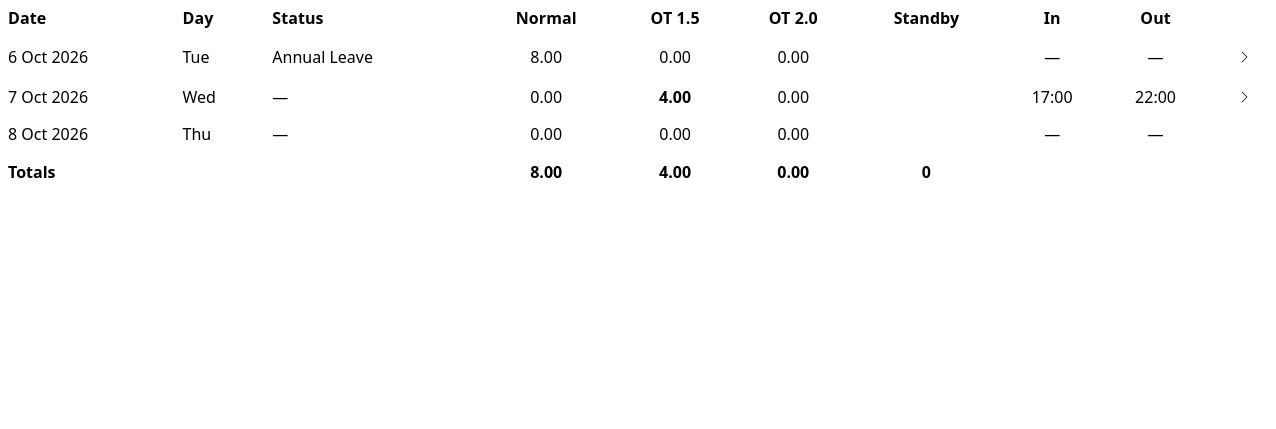
Test: QuickView › expands a day to every overtime record behind it, plus leave and holiday lines
Click the button named "breakdown for": (1244,97) [1228,81,1260,113]
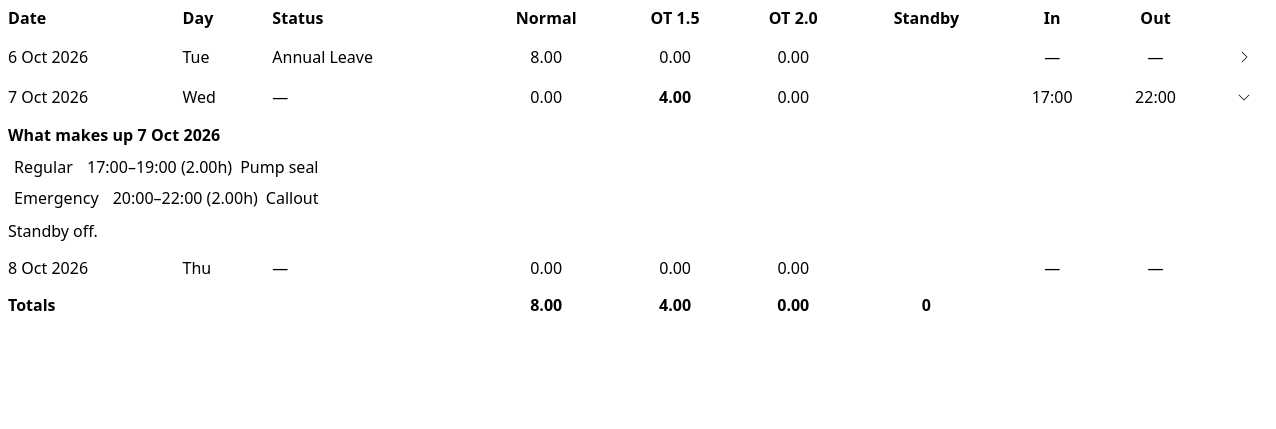
Now the text "Pump seal" is shown, box [240,156,318,178]
Now the text "17:00–19:00 (2.00h)" is shown, box [87,156,232,179]
Now the text "20:00–22:00 (2.00h)" is shown, box [113,187,258,211]
Click the button named "breakdown for": (1244,57) [1228,41,1260,73]
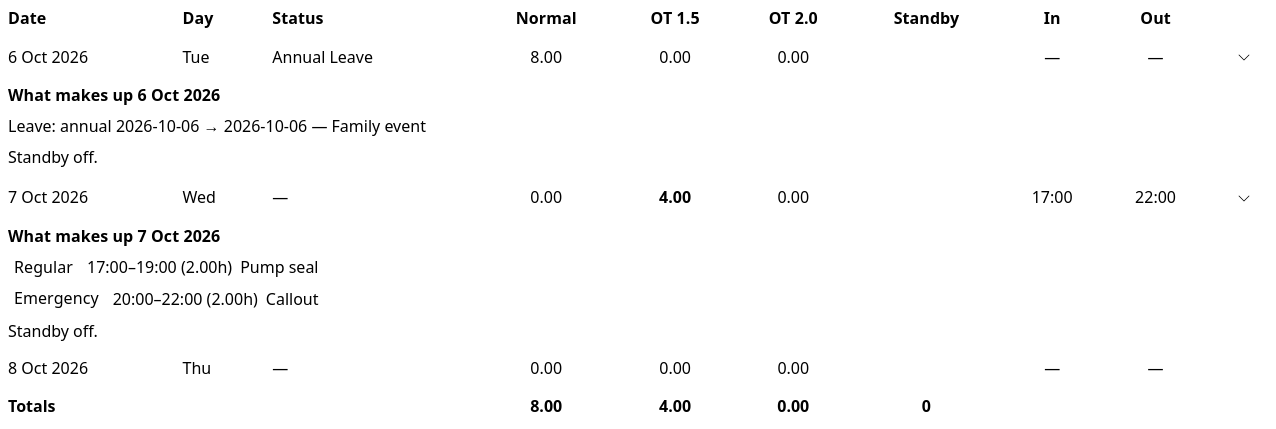
Now the text "Leave: annual 2026-10-06 → 2026-10-06 — Family event" is shown, box [8,115,426,137]
